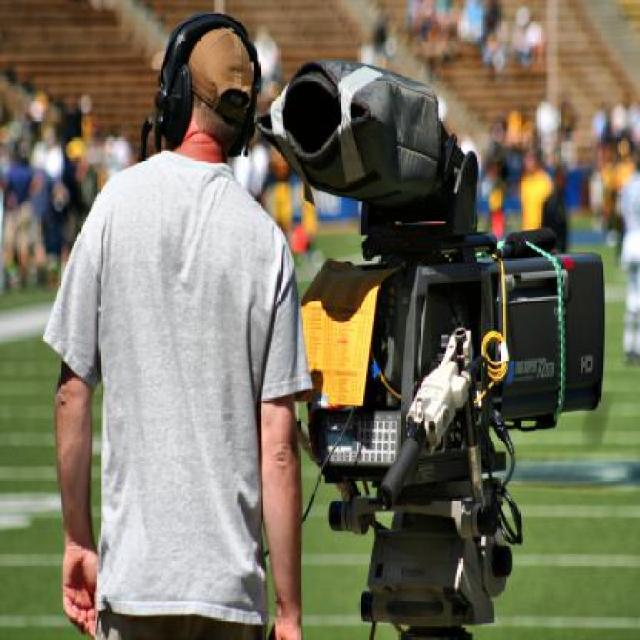earphone: (154, 7, 228, 156)
